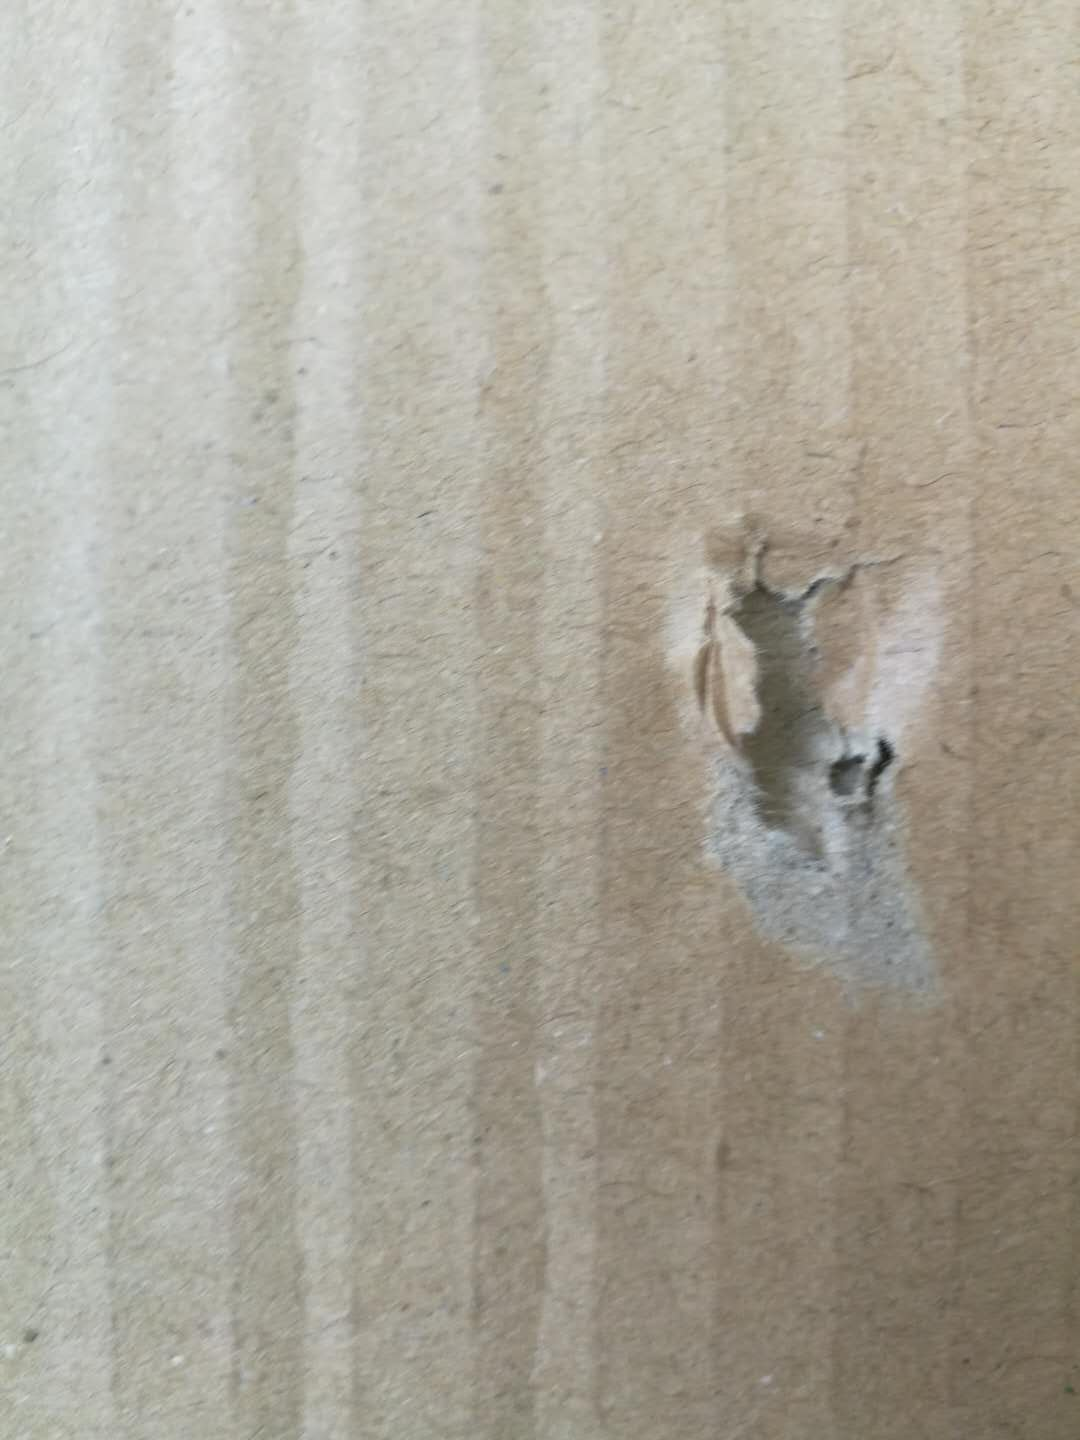defect: (608, 454, 1009, 1061)
